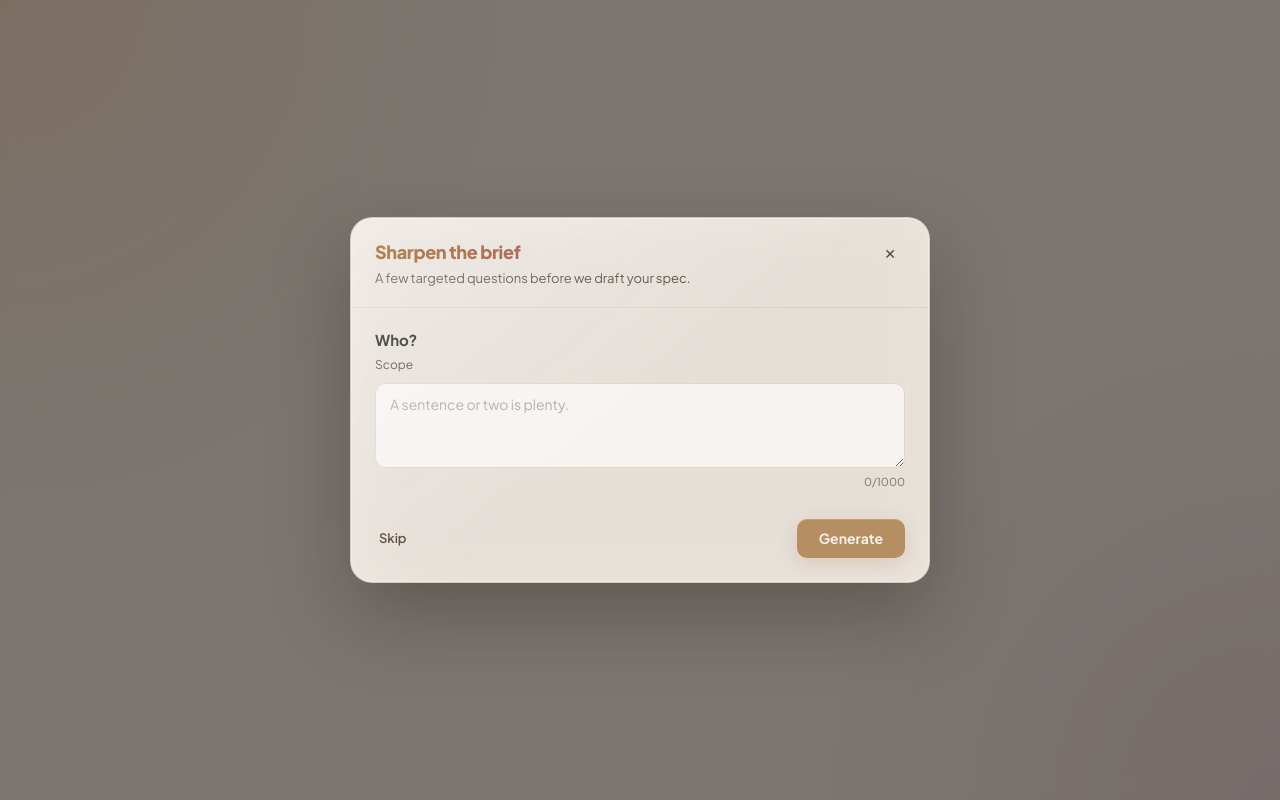
Test case: SpecClarificationModal › retains typed answers after a failed new save
The image size is (1280, 800).
Type "Owner" into the text box labelled "Who?" at (640, 426), box x1=375 y1=383 x2=905 y2=468
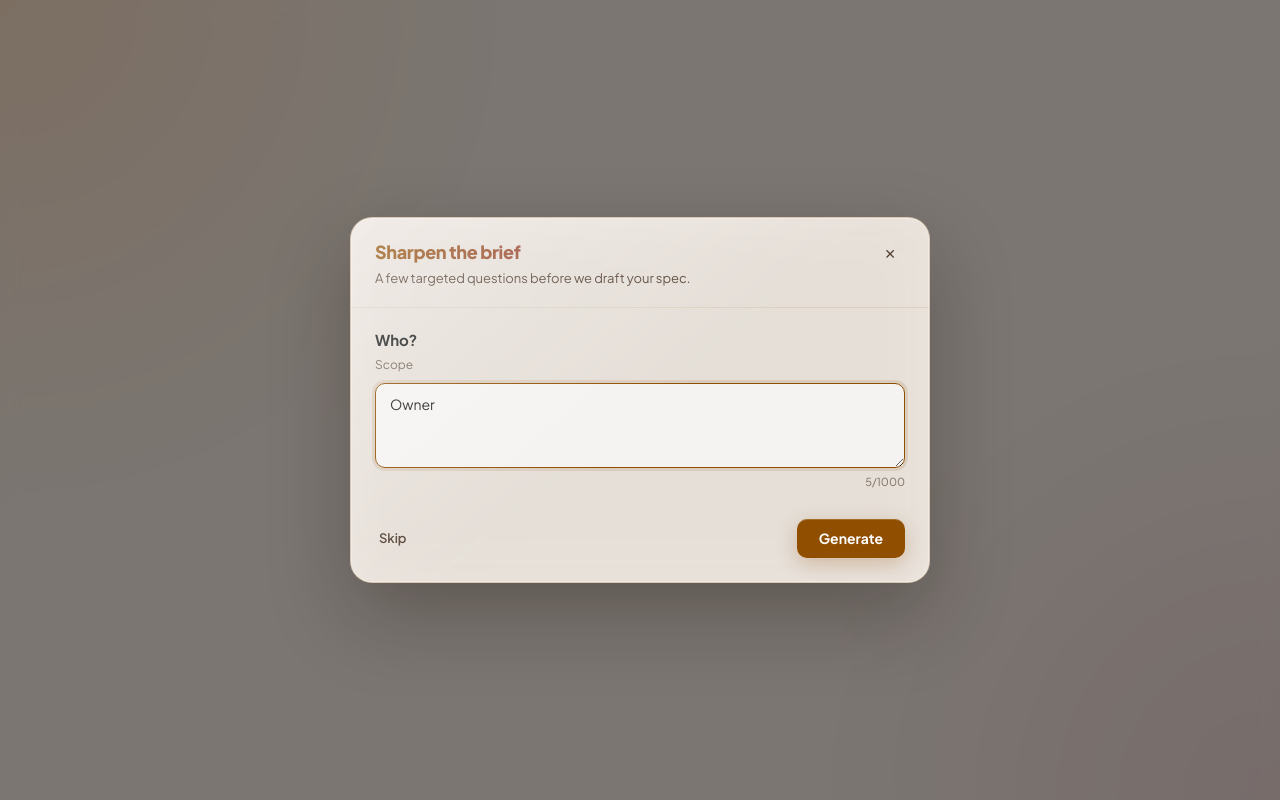
Click the button "Generate" at (851, 538), box x1=797 y1=519 x2=905 y2=558
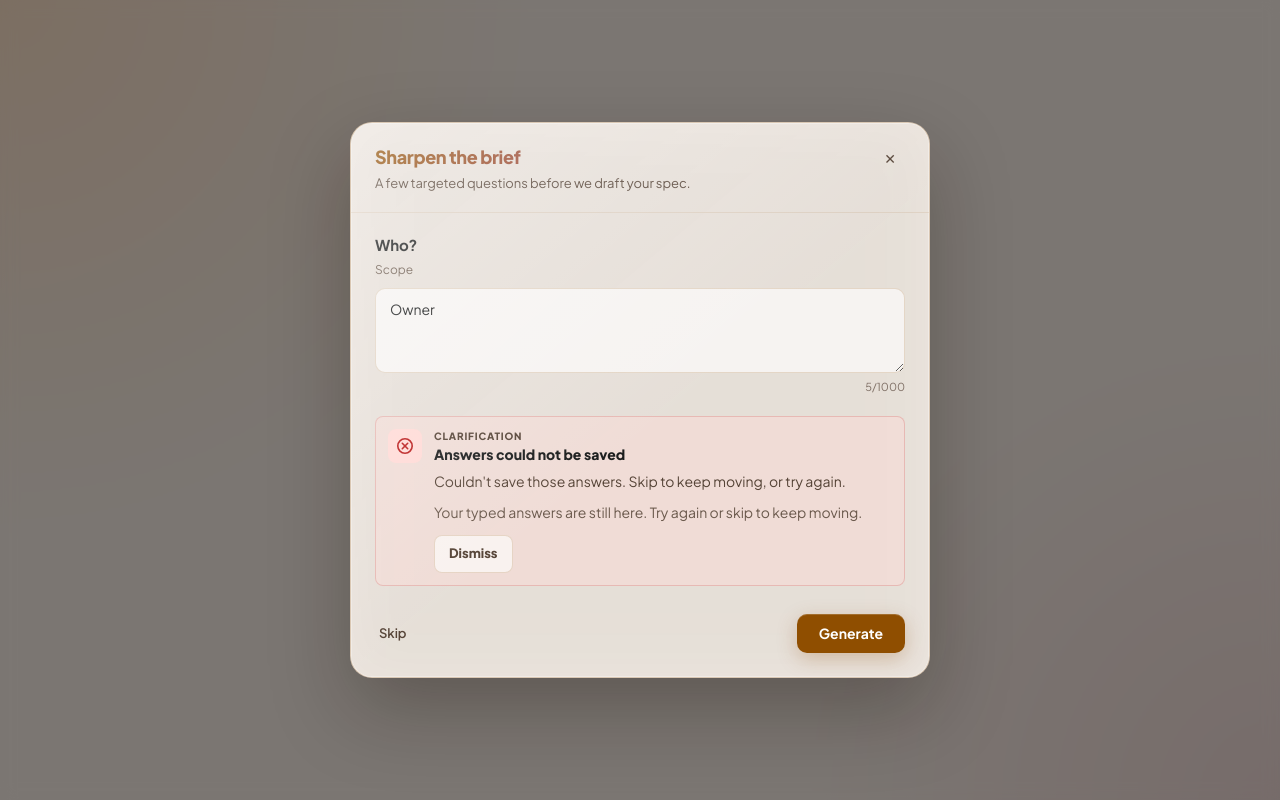
Expected: the text "Answers could not be saved" is shown, x1=434 y1=445 x2=625 y2=463
Click the button "Dismiss" at (473, 554), box x1=434 y1=535 x2=512 y2=573
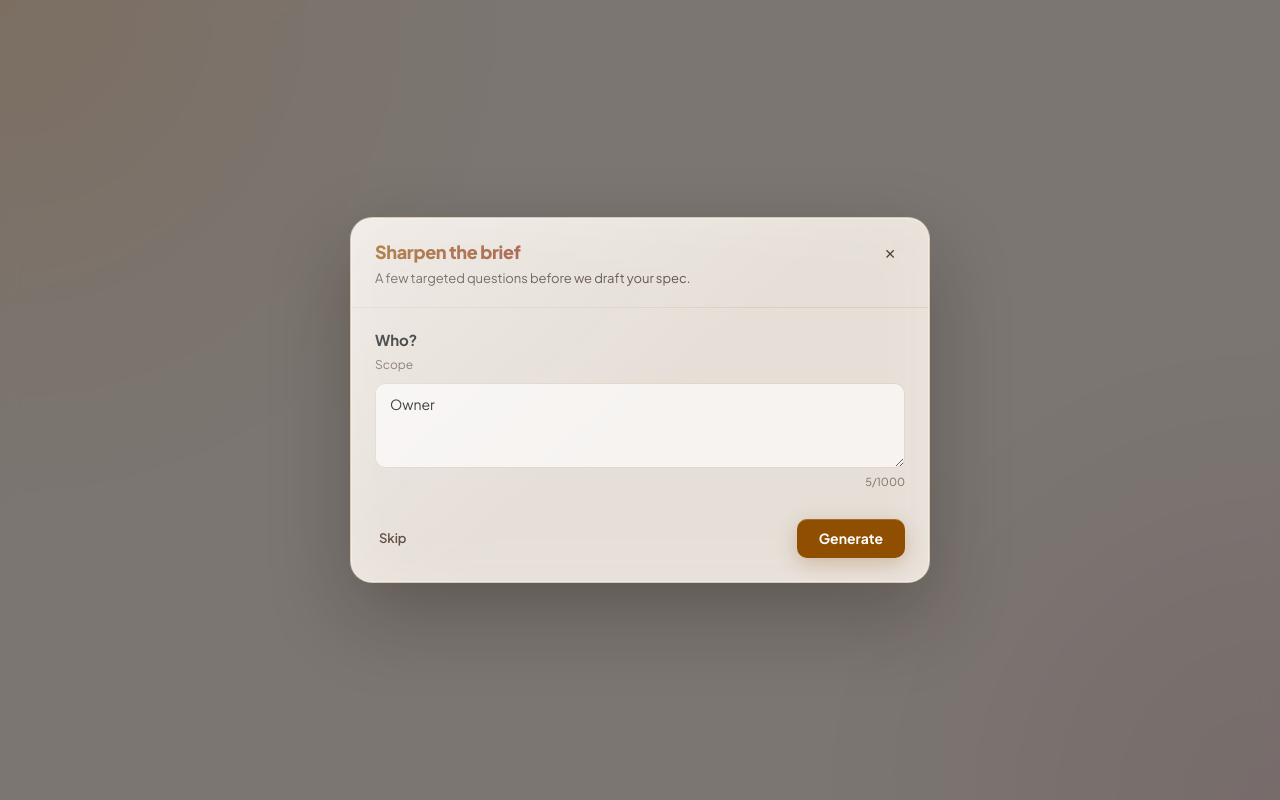
Expected: the text "Answers could not be saved" is gone
